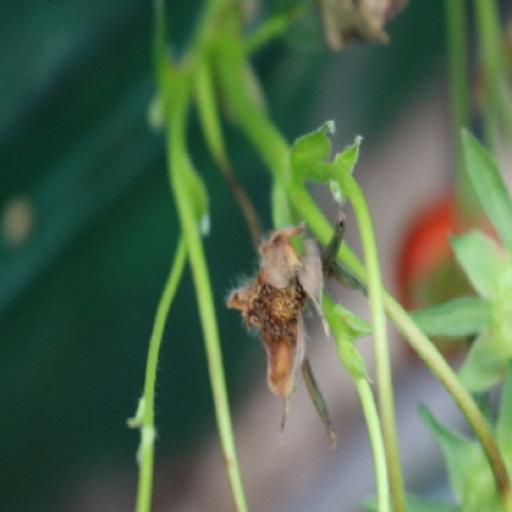Gray Mold: (224, 219, 329, 435)
